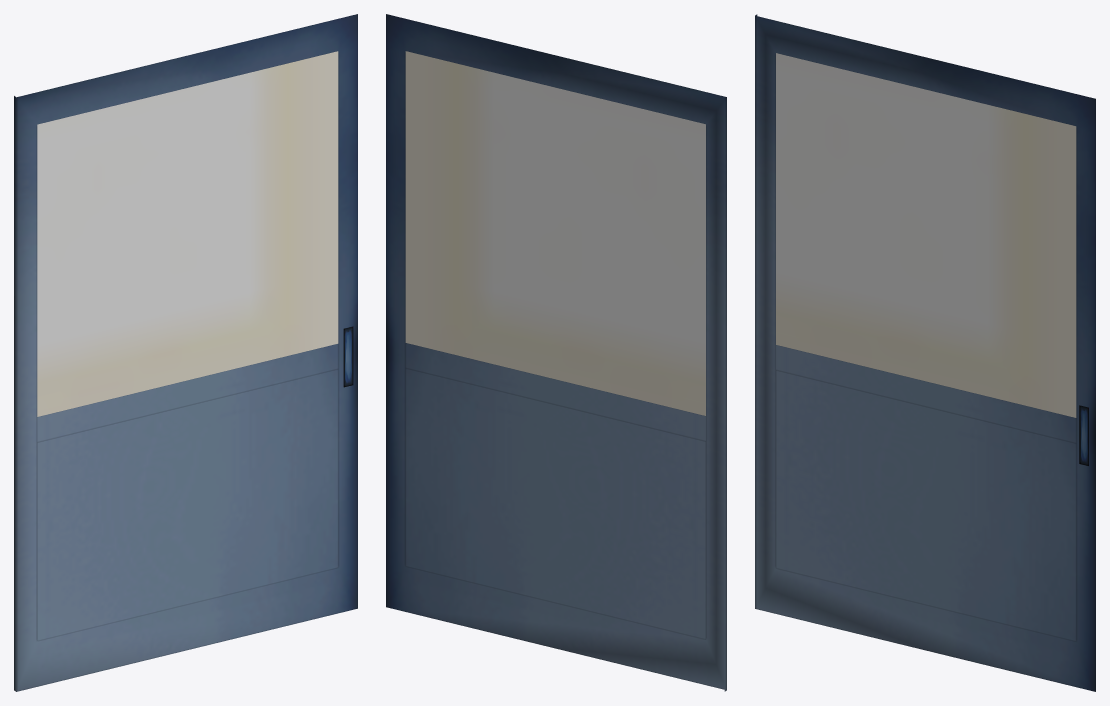
File: door.dae
The picture shows the model from 3 angles, left to right: view 1: azimuth 30°, elevation 25°; view 2: azimuth 150°, elevation 25°; view 3: azimuth 330°, elevation 25°; orthographic projection.
Visible parts, largest first — view 1: 空のオフィス_mesh_002; view 2: 空のオフィス_mesh_002; view 3: 空のオフィス_mesh_002.
Boxes of the visible parts, left/top/right/bottom form: 空のオフィス_mesh_002: left=14, top=14, right=357, bottom=691; 空のオフィス_mesh_002: left=386, top=14, right=726, bottom=691; 空のオフィス_mesh_002: left=755, top=14, right=1095, bottom=691.
Size of the model in its own units: 2.46 by 0.0425 by 4.1.
2 materials, 2 textured.
